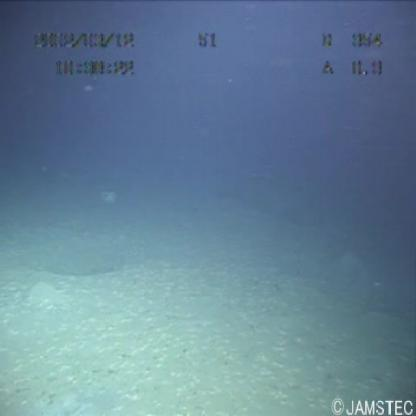Rác: (92, 186, 122, 203)
